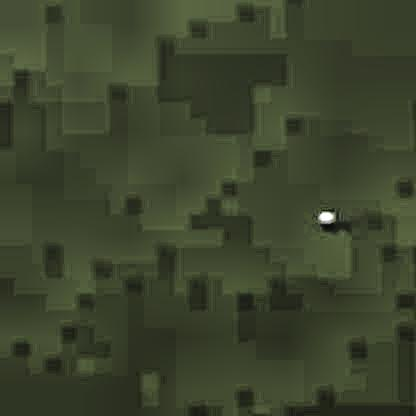golfball: (316, 208, 332, 223)
